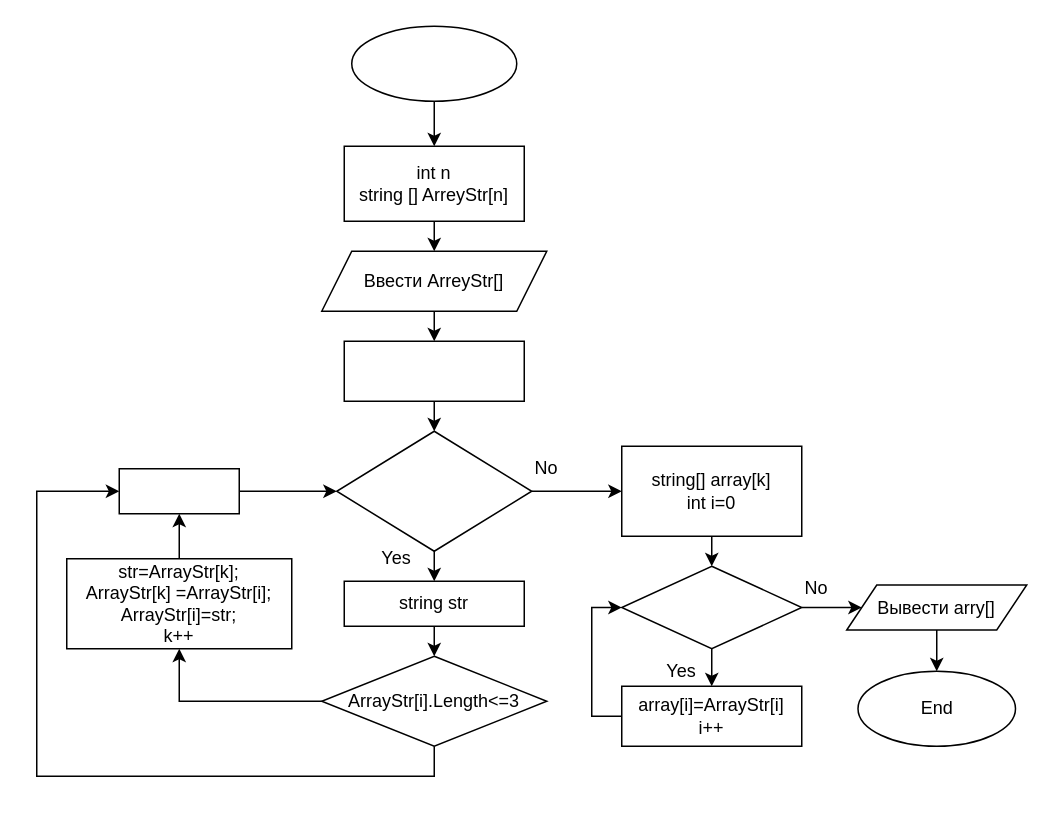
Image size: 1053x815. Some labels were removed from this diagram. The centre of each missing label's shape, as x and y in pixels:
"i++" goes at point 178,490.
"i<ArrayStr.Length" goes at point 433,490.
"i<k" goes at point 711,607.
"int k=0 int i=0" goes at point 433,370.
"Start" goes at point 433,63.
